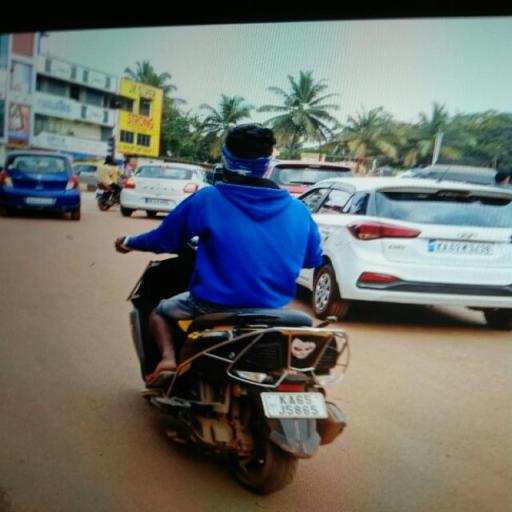bike: (108, 119, 367, 496)
numberplate: (259, 389, 329, 420)
withouthelmet: (221, 124, 277, 178)
